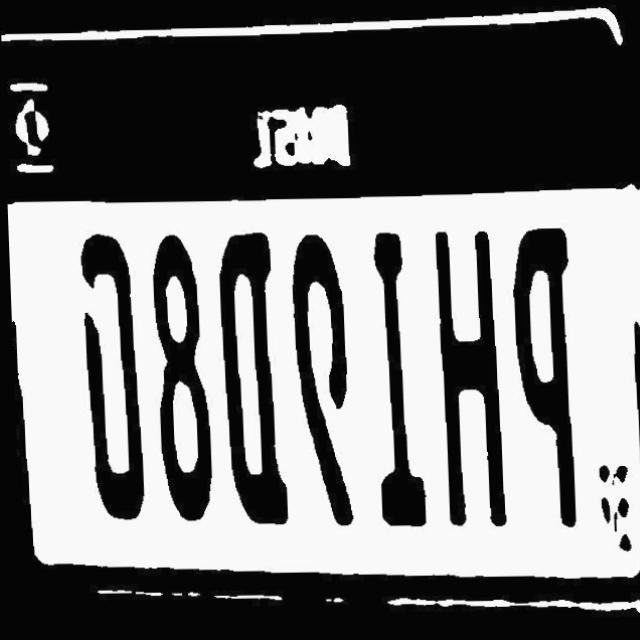0: (57, 236, 152, 525)
8: (141, 232, 217, 530)
9: (273, 231, 361, 529)
d: (204, 230, 292, 532)
h: (429, 224, 505, 532)
i: (356, 229, 431, 535)
p: (502, 225, 584, 533)
